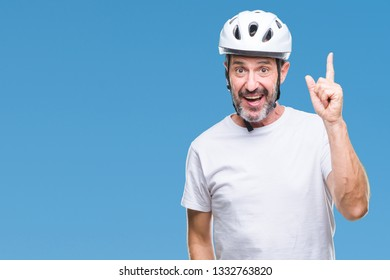helmet: (218, 10, 292, 121)
